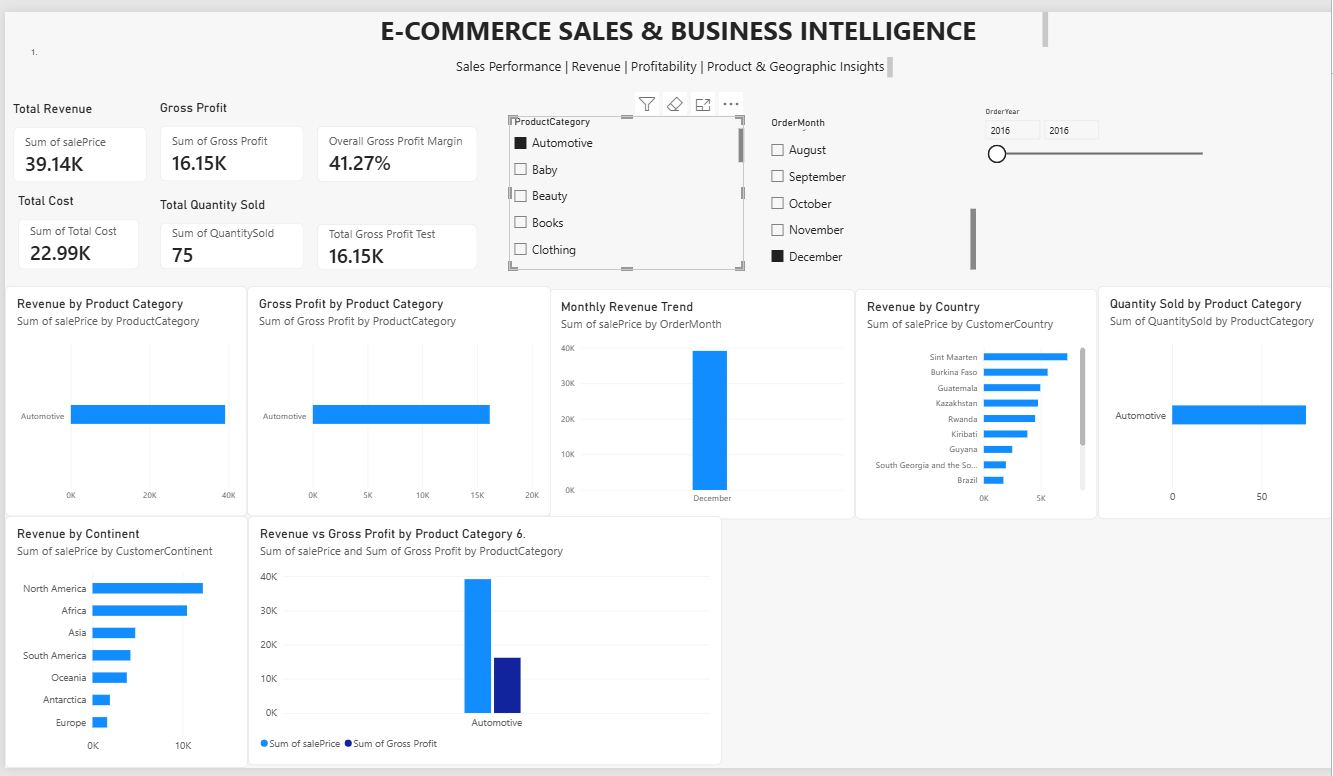

Layout of this report page (visuals, bound fields, positions):
{"tool":"powerbi","page":{"name":"Page 1","canvas":[1920,1080],"ordinal":0},"visuals":[{"type":"cardVisual","title":"Total Revenue","fields":{"Data":["Sum(E-Commerce Dataset.salePrice)"]},"box":[11.5,126.5,191.1,116.4],"z":0},{"type":"cardVisual","title":"Total Cost","fields":{"Data":["Sum(E-Commerce Dataset.Total Cost)"]},"box":[18.7,258.7,173.9,109.2],"z":1000},{"type":"cardVisual","title":"Gross Profit","fields":{"Data":["Sum(E-Commerce Dataset.Gross Profit)"]},"box":[221.5,126.2,205.4,116.2],"z":2000},{"type":"cardVisual","title":"Total Quantity Sold","fields":{"Data":["Sum(E-Commerce Dataset.QuantitySold)"]},"box":[221.3,264.4,205.5,103.5],"z":3000},{"type":"clusteredBarChart","title":"Revenue by Product Category","fields":{"Category":["E-Commerce Dataset.ProductCategory"],"Y":["Sum(E-Commerce Dataset.salePrice)"]},"box":[0,390.9,346.3,329.1],"z":4000},{"type":"clusteredBarChart","title":"Revenue by Country","fields":{"Category":["E-Commerce Dataset.CustomerCountry"],"Y":["Sum(E-Commerce Dataset.salePrice)"]},"box":[1214.4,395.2,346.3,329.1],"z":5000},{"type":"clusteredColumnChart","title":"Monthly Revenue Trend","fields":{"Category":["E-Commerce Dataset.OrderMonth"],"Y":["Sum(E-Commerce Dataset.salePrice)"]},"box":[777.5,395.2,436.9,329.1],"z":6000},{"type":"clusteredBarChart","title":"Gross Profit by Product Category","fields":{"Category":["E-Commerce Dataset.ProductCategory"],"Y":["Sum(E-Commerce Dataset.Gross Profit)"]},"box":[346.3,390.9,434,329.1],"z":7000},{"type":"cardVisual","fields":{"Data":["E-Commerce Dataset.Overall Gross Profit Margin"]},"box":[445.4,162.3,229.2,80],"z":8000},{"type":"cardVisual","fields":{"Data":["E-Commerce Dataset.Total Gross Profit Test"]},"box":[445.4,302.3,229.2,65.4],"z":9000},{"type":"clusteredBarChart","title":"Quantity Sold by Product Category","fields":{"Category":["E-Commerce Dataset.ProductCategory"],"Y":["Sum(E-Commerce Dataset.QuantitySold)"]},"box":[1560.7,390.9,334.9,333.4],"z":10000},{"type":"clusteredBarChart","title":"Revenue by Continent","fields":{"Category":["E-Commerce Dataset.CustomerContinent"],"Y":["Sum(E-Commerce Dataset.salePrice)"]},"box":[0,720,346.7,360],"z":11000},{"type":"textbox","box":[36.7,0,1453.3,65],"z":12000},{"type":"textbox","box":[643.8,64.7,623.7,35.9],"z":13000},{"type":"slicer","title":"Product Category","fields":{"Values":["E-Commerce Dataset.ProductCategory"]},"box":[720,148,336.3,219.9],"z":14000},{"type":"slicer","fields":{"Values":["E-Commerce Dataset.OrderMonth"]},"box":[1086.5,149.5,300.4,218.4],"z":15000},{"type":"slicer","fields":{"Values":["E-Commerce Dataset.OrderYear"]},"box":[1392.6,135.1,336.3,129.3],"z":16000},{"type":"clusteredColumnChart","title":"Revenue vs Gross Profit by Product Category 6.","fields":{"Category":["E-Commerce Dataset.ProductCategory"],"Y":["Sum(E-Commerce Dataset.salePrice)","Sum(E-Commerce Dataset.Gross Profit)"]},"box":[346.7,720,676.9,356.4],"z":17000}]}

Visuals, with their boxes on the page's 1920x1080 design canvas (x1, y1, x2, y2). These are canvas units, not pixel positions in the 1333x776 screenshot, which may show the page scaled, cropped or inside an application window:
"Total Revenue" cardVisual: BBox(12, 126, 203, 243)
"Total Cost" cardVisual: BBox(19, 259, 193, 368)
"Gross Profit" cardVisual: BBox(222, 126, 427, 242)
"Total Quantity Sold" cardVisual: BBox(221, 264, 427, 368)
"Revenue by Product Category" clusteredBarChart: BBox(0, 391, 346, 720)
"Revenue by Country" clusteredBarChart: BBox(1214, 395, 1561, 724)
"Monthly Revenue Trend" clusteredColumnChart: BBox(778, 395, 1214, 724)
"Gross Profit by Product Category" clusteredBarChart: BBox(346, 391, 780, 720)
cardVisual - E-Commerce Dataset.Overall Gross Profit Margin: BBox(445, 162, 675, 242)
cardVisual - E-Commerce Dataset.Total Gross Profit Test: BBox(445, 302, 675, 368)
"Quantity Sold by Product Category" clusteredBarChart: BBox(1561, 391, 1896, 724)
"Revenue by Continent" clusteredBarChart: BBox(0, 720, 347, 1080)
textbox: BBox(37, 0, 1490, 65)
textbox: BBox(644, 65, 1268, 101)
"Product Category" slicer: BBox(720, 148, 1056, 368)
slicer - E-Commerce Dataset.OrderMonth: BBox(1086, 150, 1387, 368)
slicer - E-Commerce Dataset.OrderYear: BBox(1393, 135, 1729, 264)
"Revenue vs Gross Profit by Product Category 6." clusteredColumnChart: BBox(347, 720, 1024, 1076)
